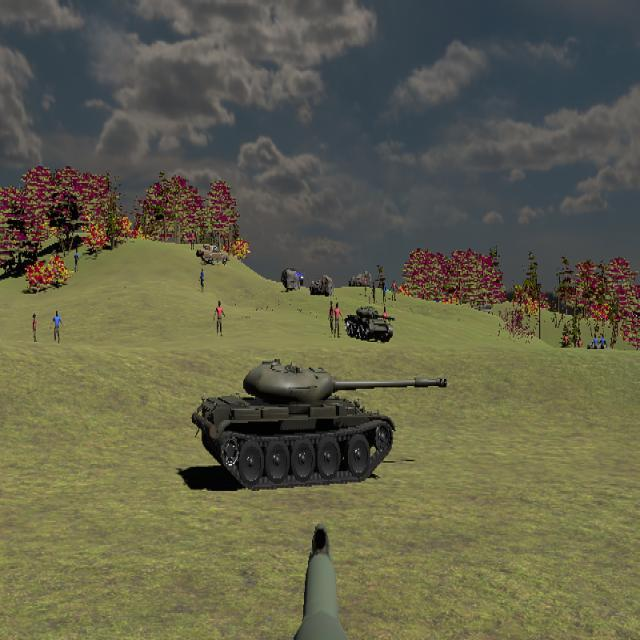Tank: (191, 358, 448, 492), (345, 306, 395, 343)
car: (196, 245, 228, 265)
